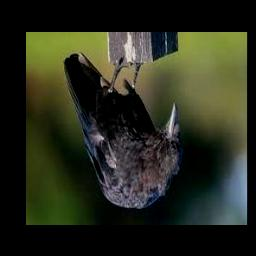Crow: (63, 51, 182, 209)
